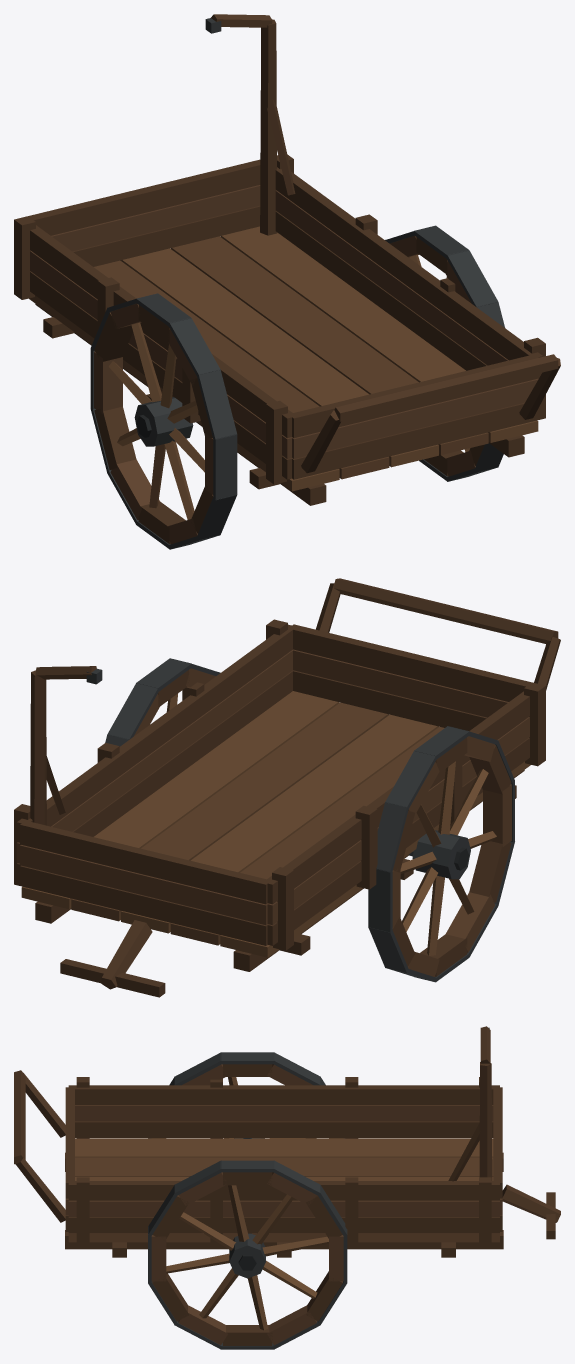
File: prop_cart.glb
The picture shows the model from 3 angles, top to bottom: view 1: azimuth 30°, elevation 25°; view 2: azimuth 150°, elevation 25°; view 3: azimuth 270°, elevation 25°; orthographic projection. The views are drawn at different scales.
Visible parts, largest first — view 1: Cart; view 2: Cart; view 3: Cart.
Boxes of the visible parts, left/top/right/bottom form: Cart: left=14, top=14, right=560, bottom=549; Cart: left=14, top=578, right=560, bottom=997; Cart: left=14, top=1026, right=560, bottom=1349.
Size of the model in its own units: 1.62 by 1.74 by 2.99.
